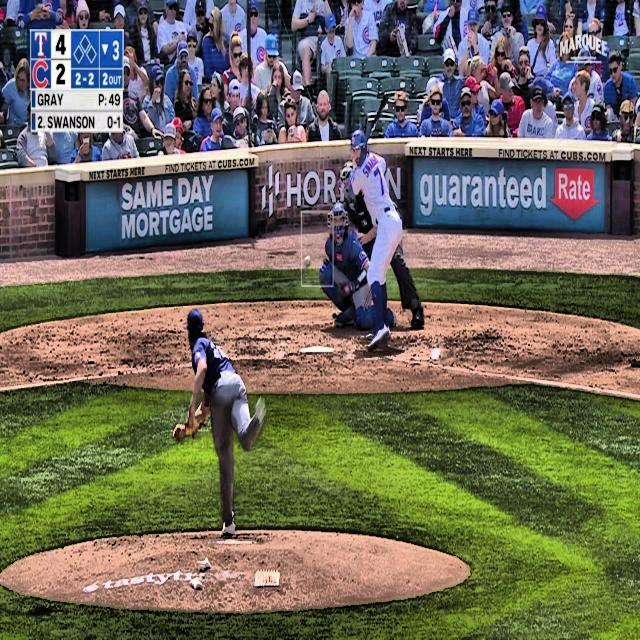baseball: (304, 254, 311, 268)
